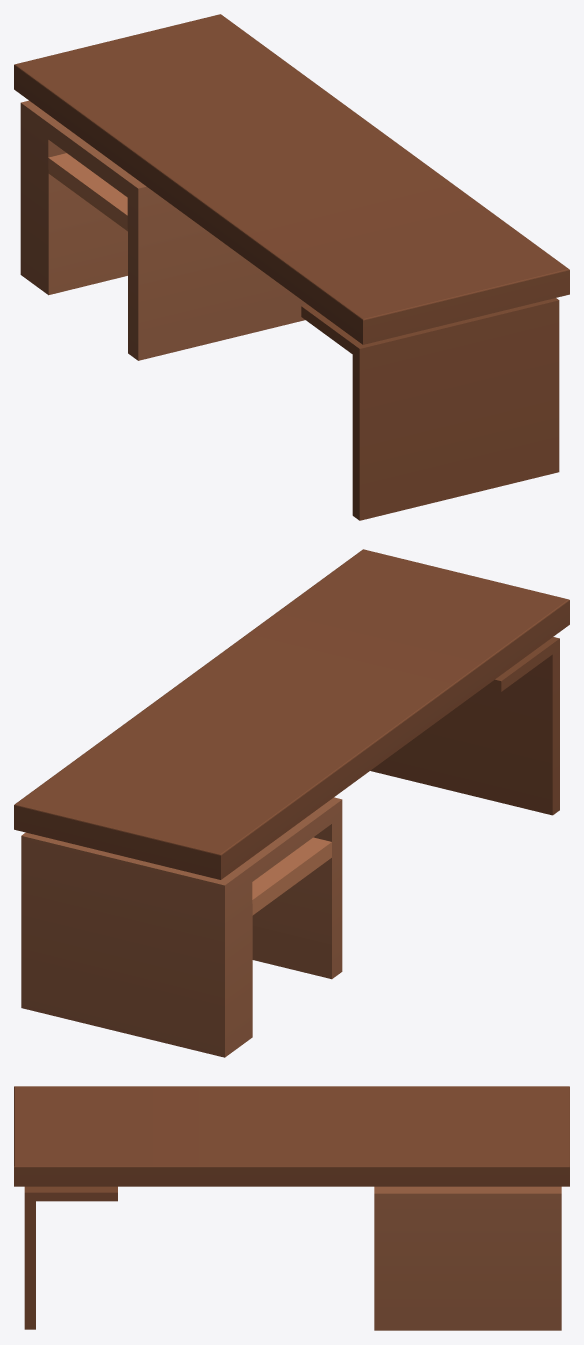
File: OfficeDesk.fbx
3 views of the same model, one above another, from view 1: azimuth 30°, elevation 25°; view 2: azimuth 150°, elevation 25°; view 3: azimuth 270°, elevation 25° (orthographic). The views are drawn at different scales.
Parts seen in each view (by area): view 1: OfficeDesk; view 2: OfficeDesk; view 3: OfficeDesk.
Part boxes in pixels (x1=…): OfficeDesk: x1=14, y1=14, x2=569, y2=520; OfficeDesk: x1=14, y1=549, x2=569, y2=1057; OfficeDesk: x1=14, y1=1086, x2=569, y2=1330.
Size of the model in its own units: 270 by 258 by 788.
1 material, 1 textured.
